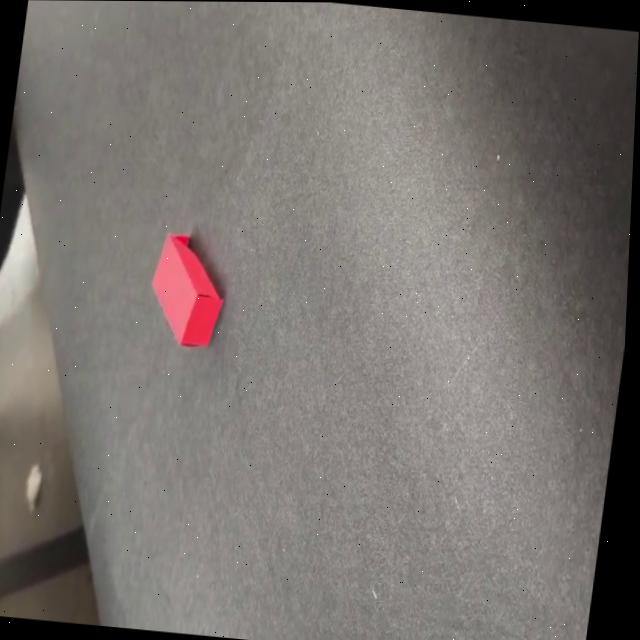red block: (140, 231, 230, 351)
